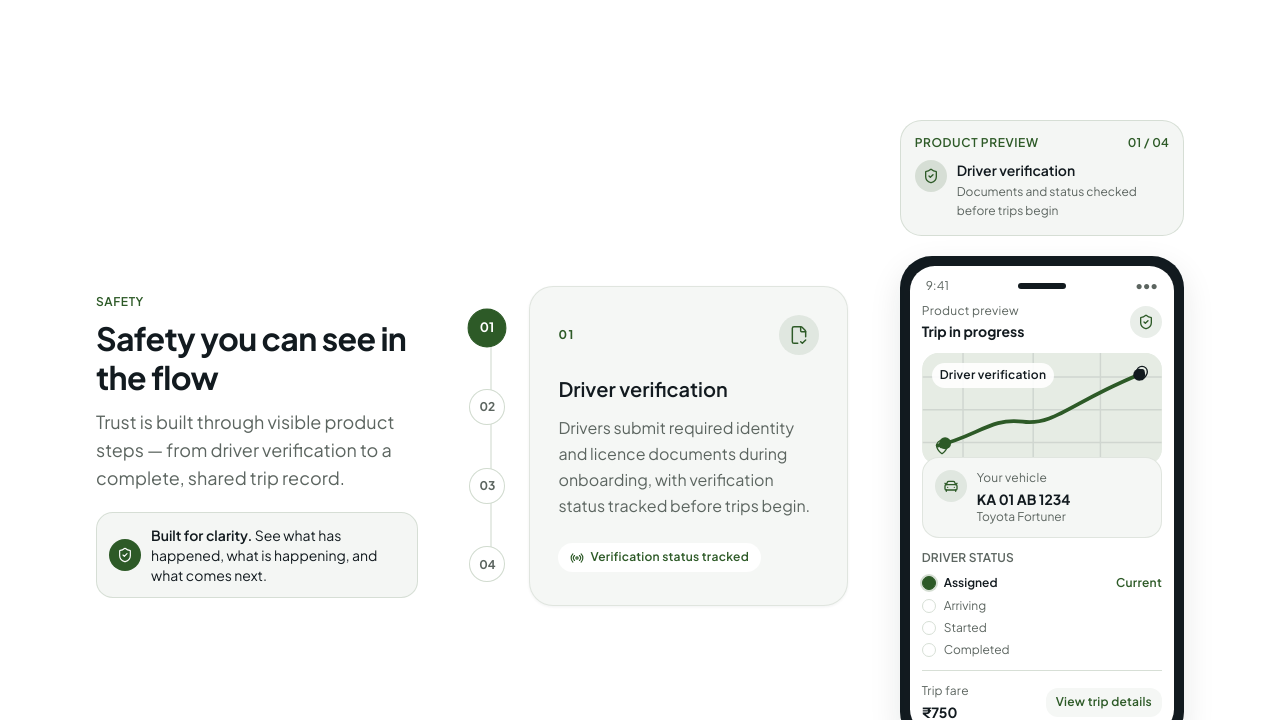
Scenario: SafetyFlowSection › changes the active step with click and arrow-key controls
Press ArrowDown in the button named "Show step 01", box [468,309,507,348]
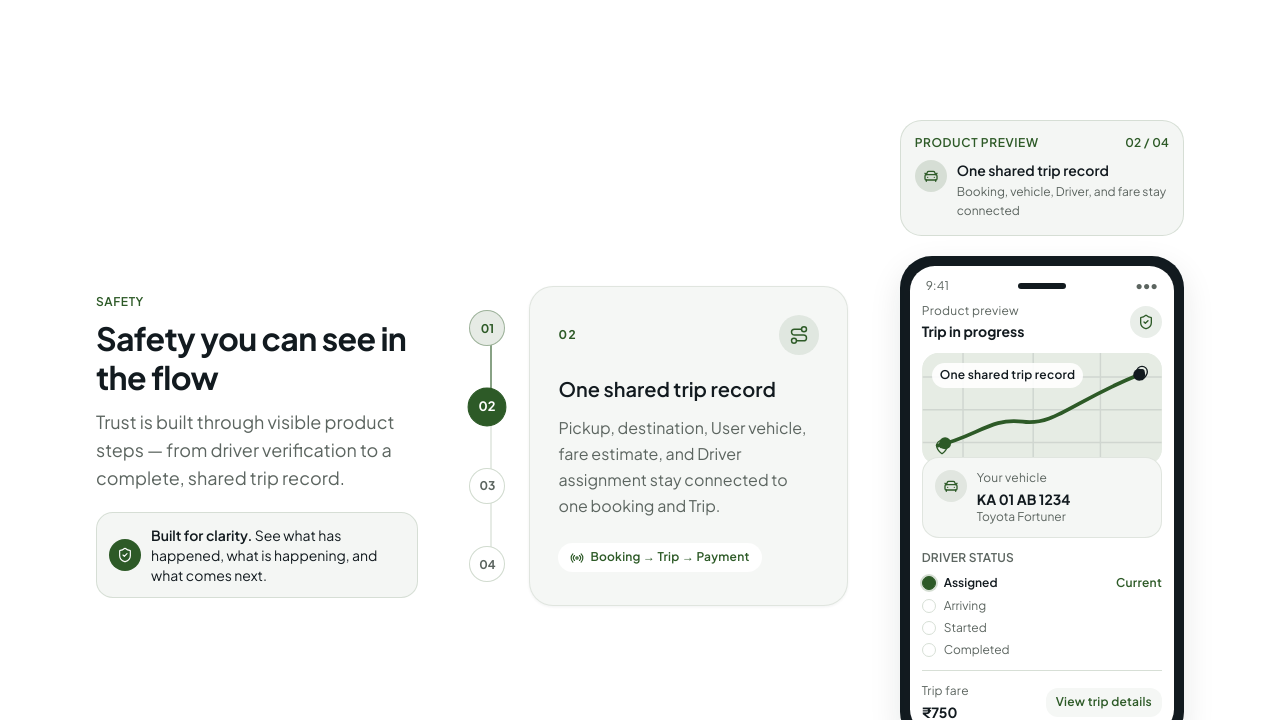
Check: the button named "Show step 02" is marked as current, box [468,387,507,426]
Click the button named "Show step 04": (487, 564) [469,546,505,582]
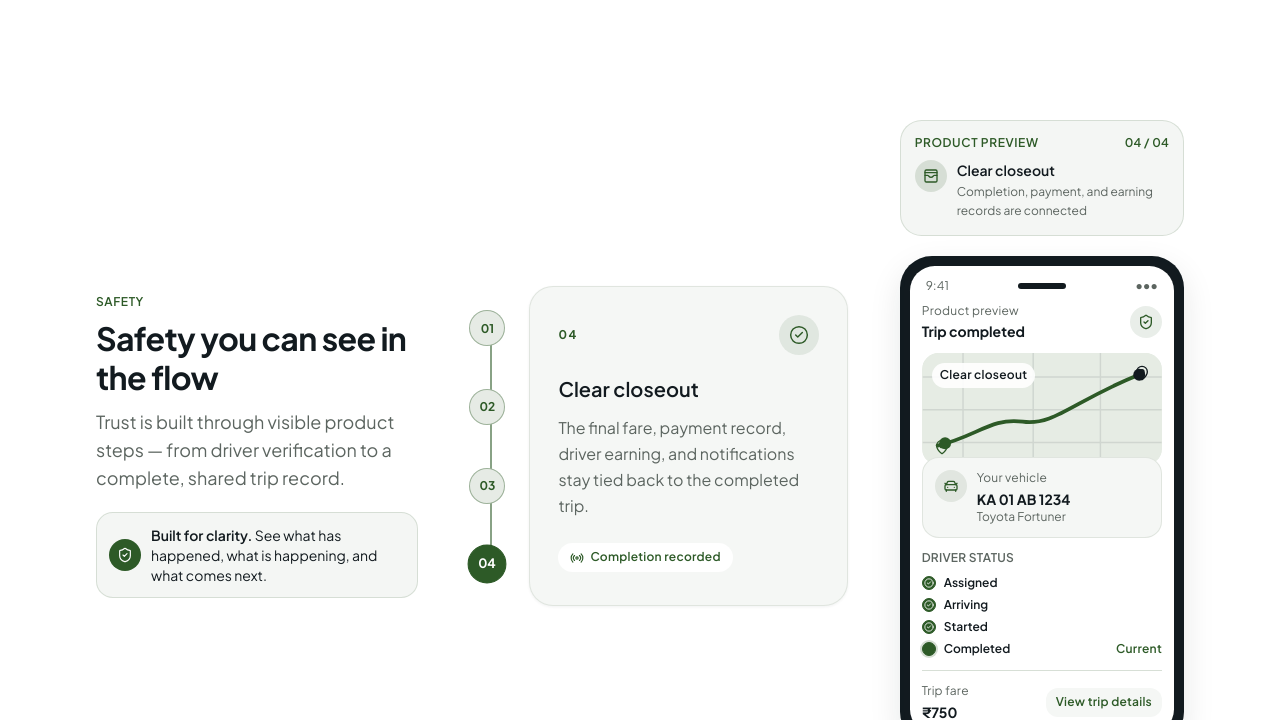
Check: the text "Trip completed" is shown, box [922,321,1025,341]
